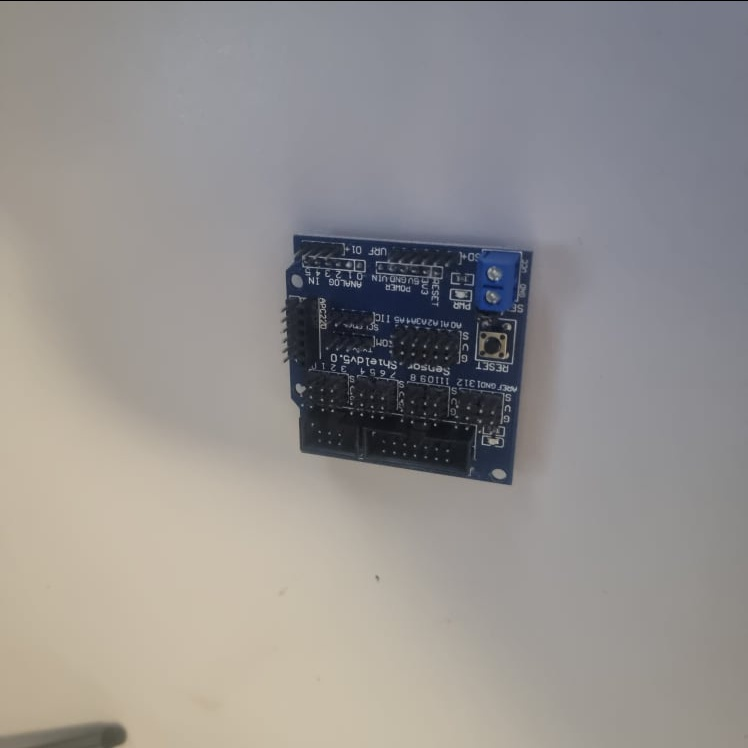5V EXPANSION: (287, 233, 532, 485)
